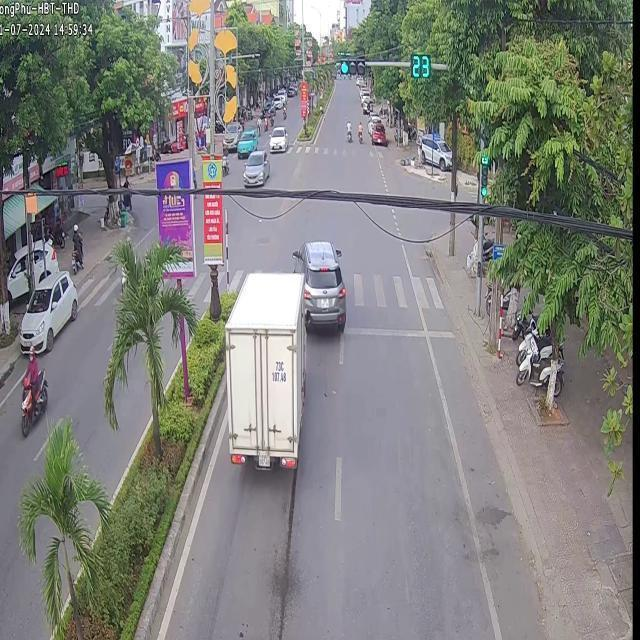car: (223, 271, 304, 469), (290, 238, 344, 329), (242, 149, 268, 187), (236, 125, 257, 156), (268, 125, 287, 150)
green_light: (338, 56, 364, 74), (478, 151, 487, 198)
motobike: (344, 118, 350, 140), (356, 120, 360, 142)
stop_line: (342, 324, 454, 337)
